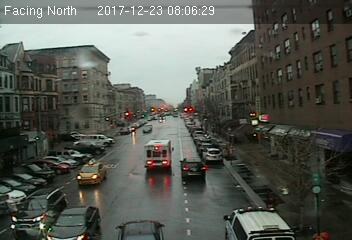car: (8, 188, 68, 234), (44, 204, 102, 240), (76, 158, 108, 186), (178, 157, 207, 181), (201, 146, 224, 163)
police: (221, 206, 295, 240)
truck: (144, 139, 175, 170)
